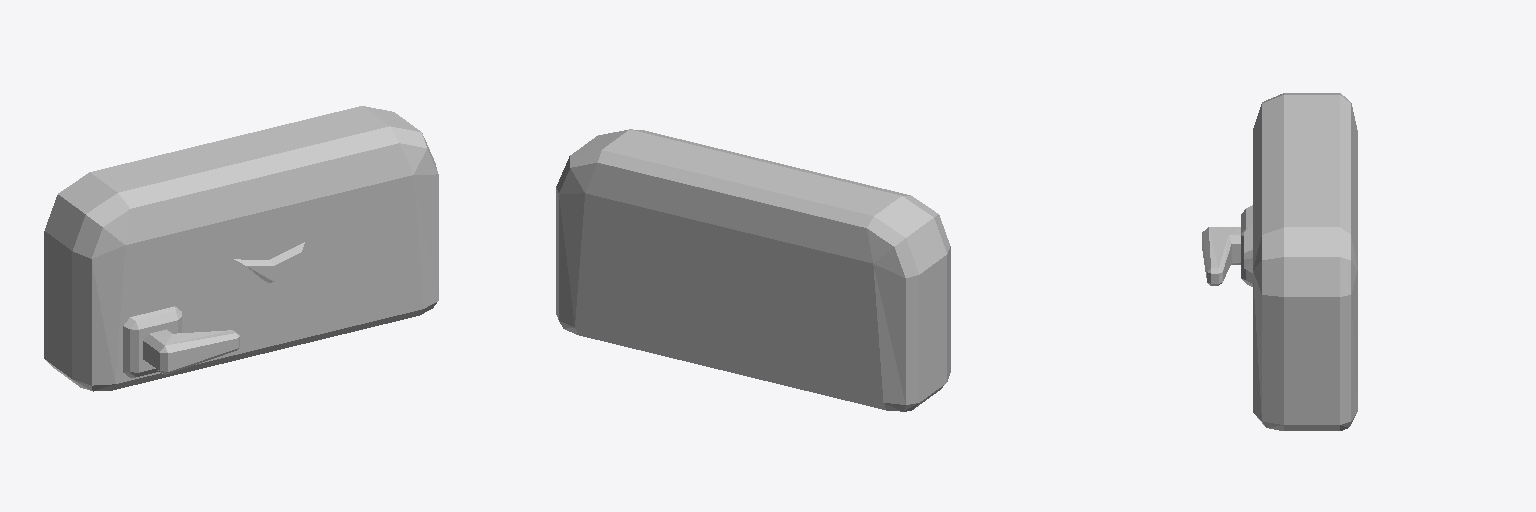
Rendered from fridge_A_decorated_door_top.obj.
3 views of the same model, side by side, from view 1: azimuth 30°, elevation 25°; view 2: azimuth 150°, elevation 25°; view 3: azimuth 270°, elevation 25° (orthographic).
Visible parts, largest first — view 1: fridge_A_decorated_door_top_Cube.107; view 2: fridge_A_decorated_door_top_Cube.107; view 3: fridge_A_decorated_door_top_Cube.107.
Boxes of the visible parts, x1=… form: fridge_A_decorated_door_top_Cube.107: x1=44, y1=106, x2=438, y2=391; fridge_A_decorated_door_top_Cube.107: x1=556, y1=129, x2=950, y2=411; fridge_A_decorated_door_top_Cube.107: x1=1202, y1=93, x2=1357, y2=430.
Bounding box in the file's own units: 2 × 1 × 0.74.